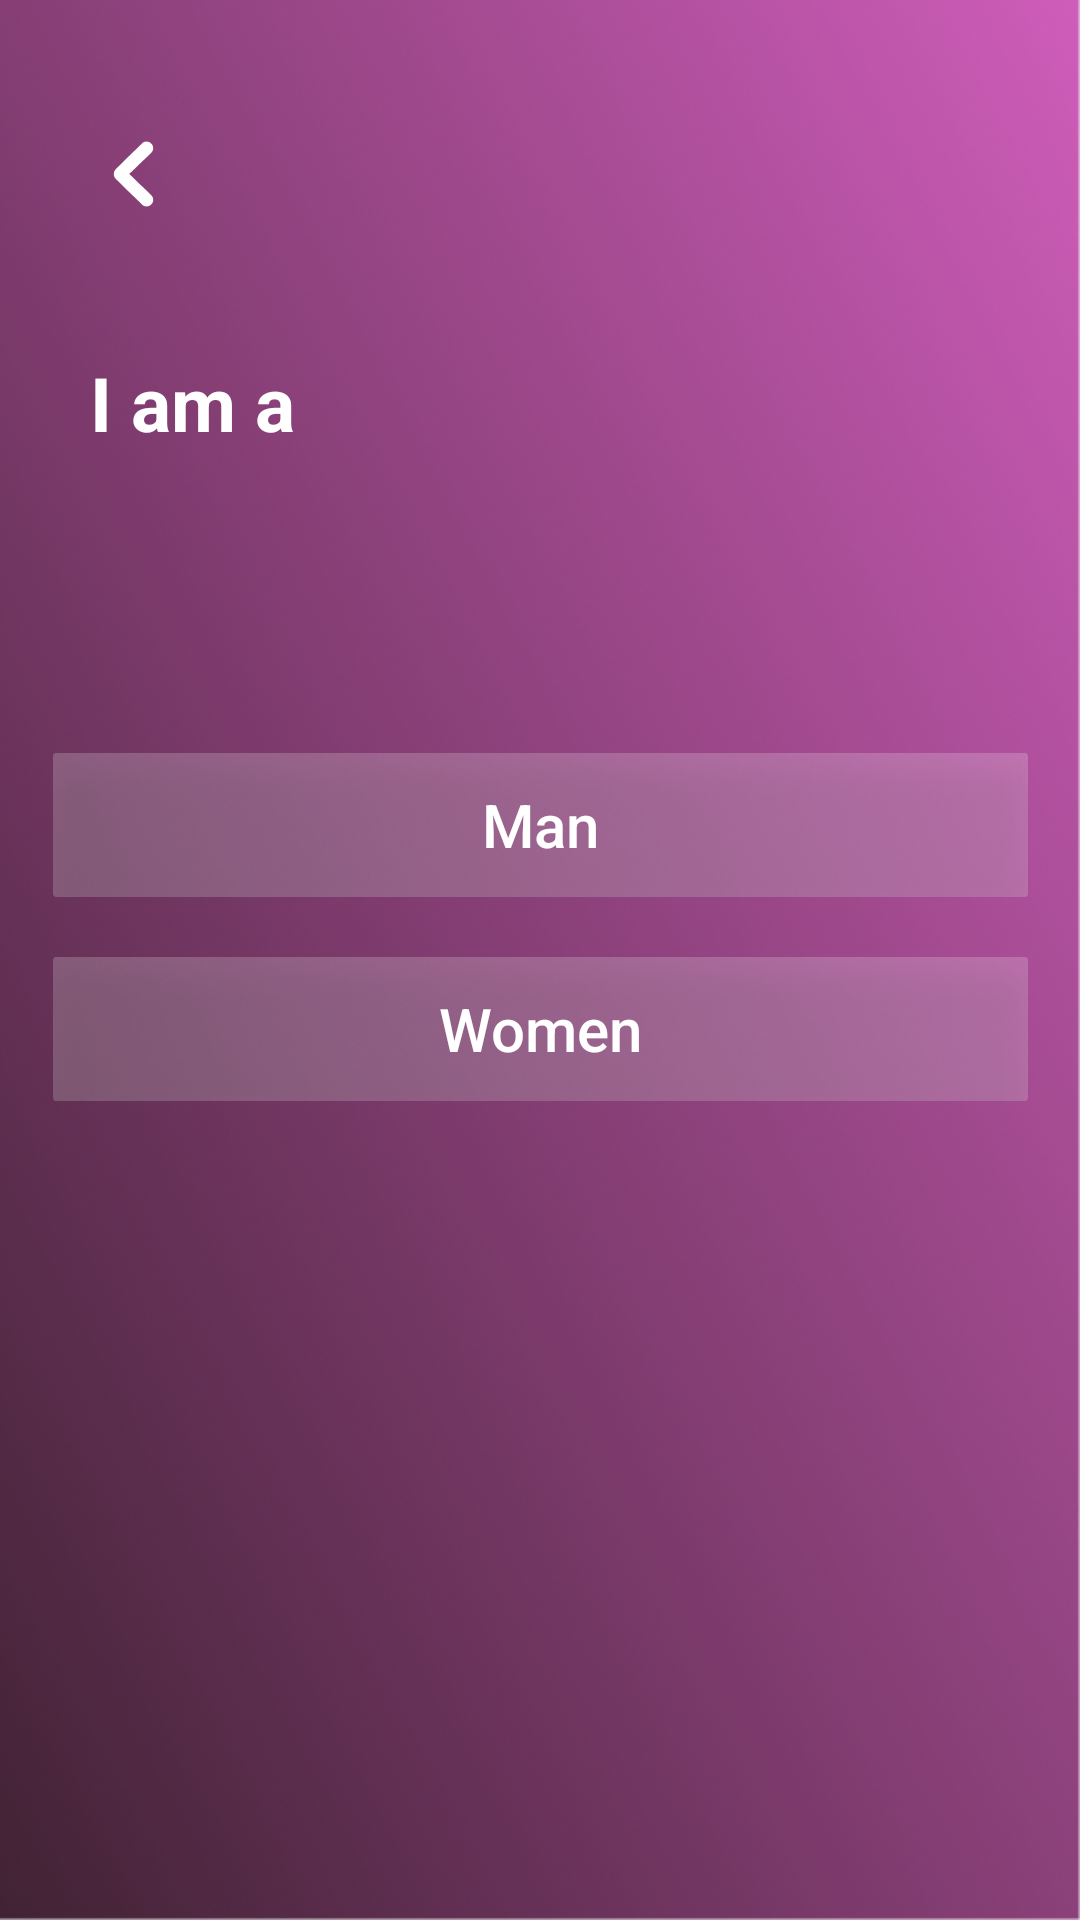

Screen size 1080px×1920px. Icon name, then its box in pixels as box(x1, y1, x2, y2):
back: box(113, 141, 154, 207)
